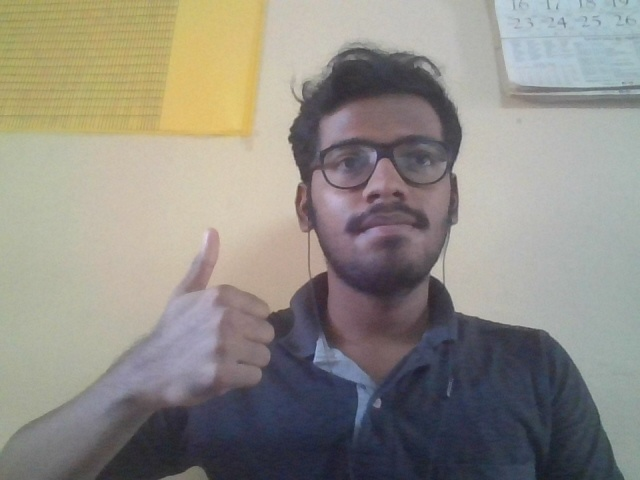ThumbsUp: (147, 228, 275, 411)
